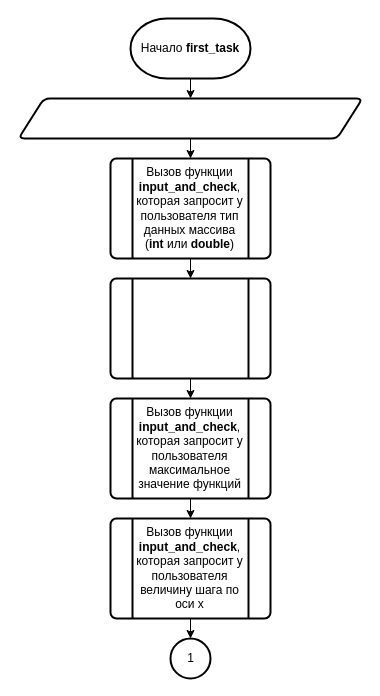
The diagram is 380 pixels wide and 696 high, and some of its shapes have lost their labels. Here are the shapes that lost their labels. From the top down, the box of each, then its label:
(17, 97, 363, 139): "========= ПЕРВЫЙ ЭТАП =========\n"
(109, 277, 271, 379): Вызов функции input_and_check , которая запросит у пользователя размер массива
